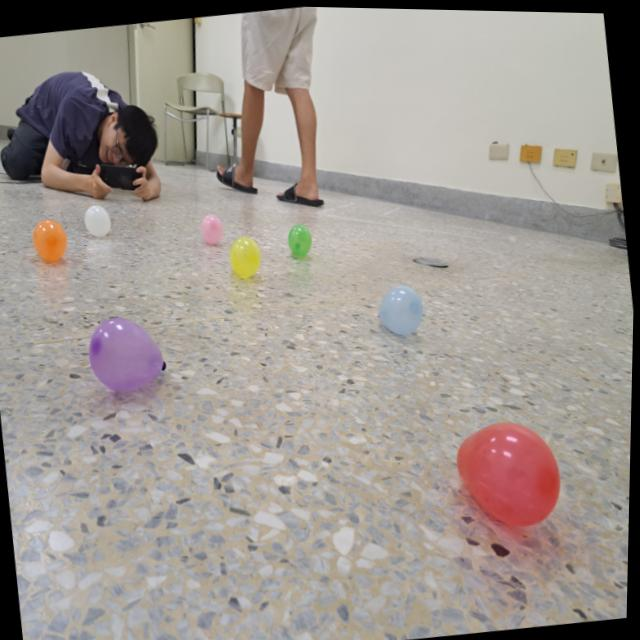other: (85, 308, 175, 398), (374, 281, 428, 340), (226, 231, 265, 280), (30, 217, 69, 262), (285, 221, 316, 261), (82, 202, 114, 239), (198, 211, 225, 244)
red: (451, 412, 570, 534)
